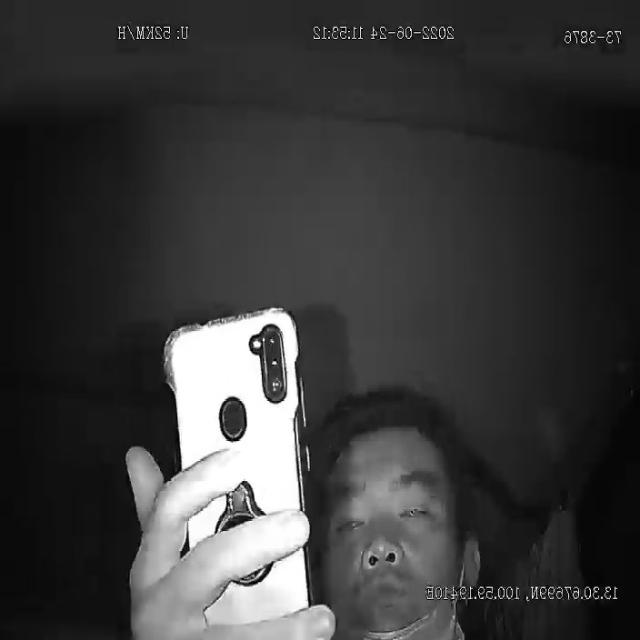phone: (165, 302, 310, 640)
